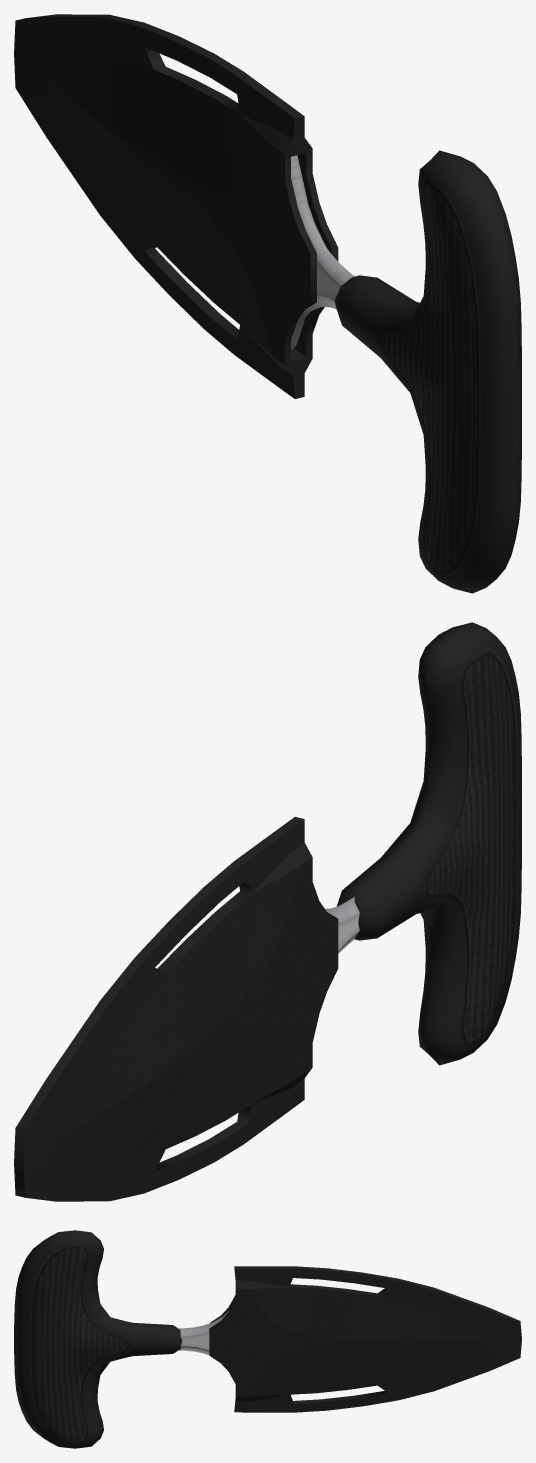
The model's file is knife_8.fbx.
The picture shows the model from 3 angles, top to bottom: view 1: azimuth 30°, elevation 25°; view 2: azimuth 150°, elevation 25°; view 3: azimuth 270°, elevation 25°; orthographic projection. The views are drawn at different scales.
Parts seen in each view (by area): view 1: Knife8scabbard, Knife8; view 2: Knife8scabbard, Knife8; view 3: Knife8scabbard, Knife8.
Boxes of the visible parts, left/top/right/bottom form: Knife8scabbard: left=14, top=14, right=338, bottom=398; Knife8: left=291, top=150, right=521, bottom=593; Knife8scabbard: left=14, top=817, right=338, bottom=1201; Knife8: left=325, top=622, right=521, bottom=1065; Knife8scabbard: left=209, top=1266, right=521, bottom=1412; Knife8: left=14, top=1230, right=229, bottom=1448.
Bounding box in the file's own units: 1.04 × 8.95 × 18.88.
